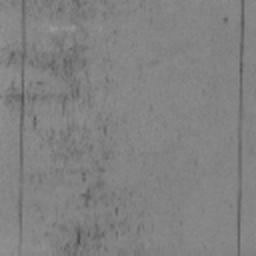Scratches: (236, 0, 246, 256), (18, 0, 26, 256)
